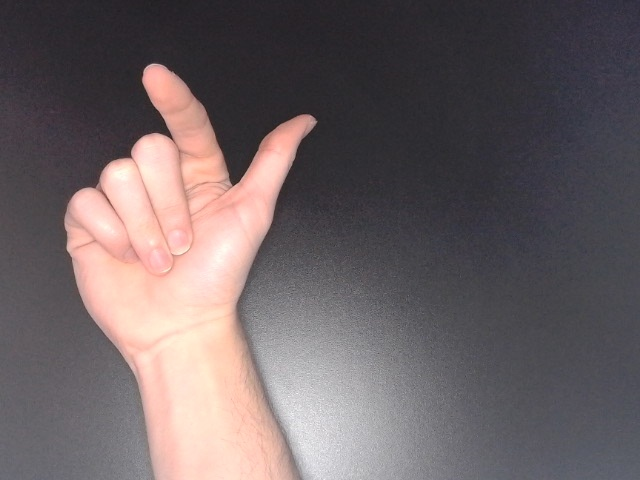t: (59, 59, 323, 370)
